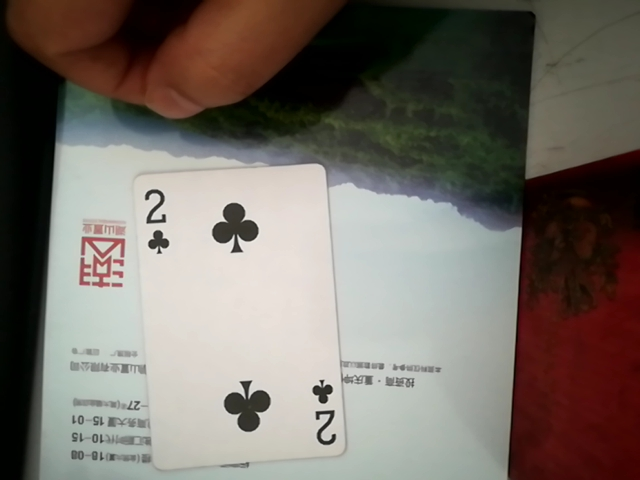mh 2: (125, 153, 341, 465)
